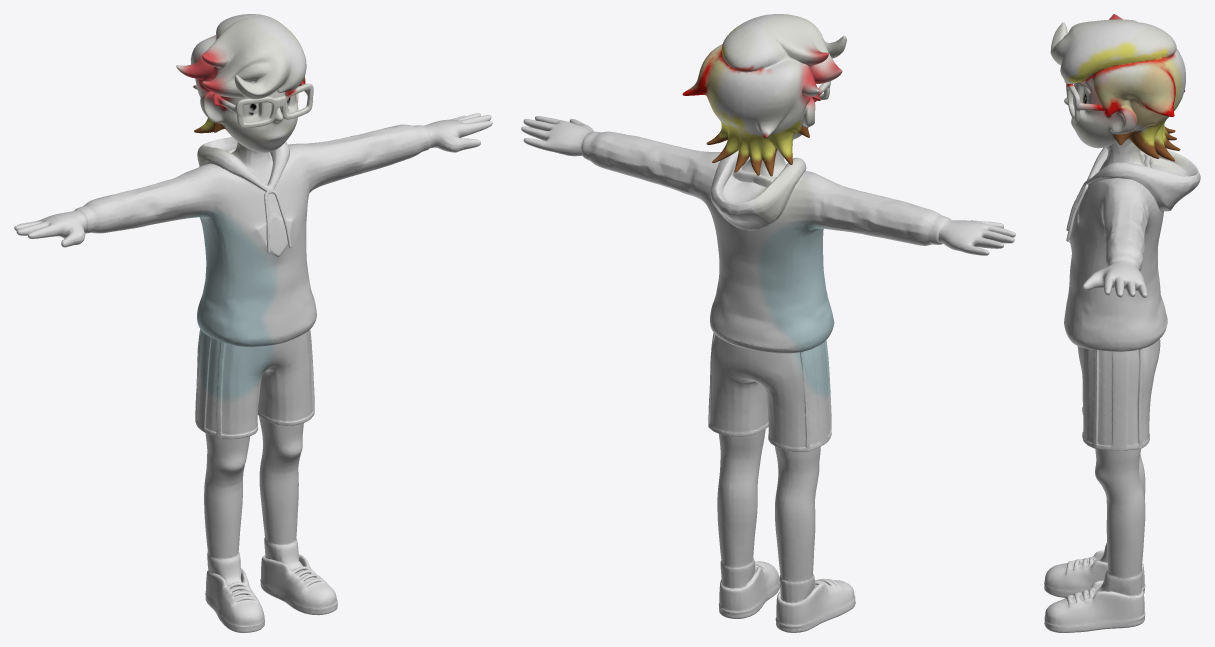
Rendered from Personaje2.fbx.
3 views of the same model, side by side, from view 1: azimuth 30°, elevation 25°; view 2: azimuth 150°, elevation 25°; view 3: azimuth 270°, elevation 25° (orthographic). The views are drawn at different scales.
Parts seen in each view (by area): view 1: geometry_0; view 2: geometry_0; view 3: geometry_0.
Boxes of the visible parts, bbox=[...] form: geometry_0: bbox=[14, 14, 492, 632]; geometry_0: bbox=[521, 14, 1015, 632]; geometry_0: bbox=[1044, 14, 1200, 632].
Size of the model in its own units: 86.39 by 100 by 24.28.
